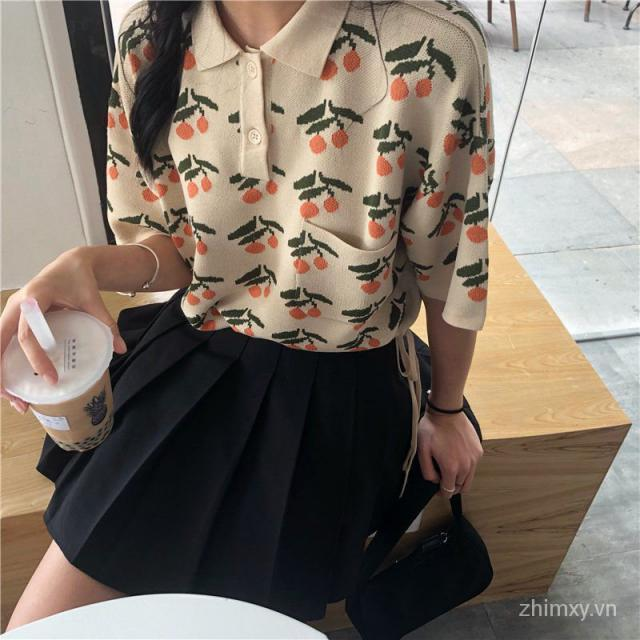Shirt: (104, 0, 502, 356)
